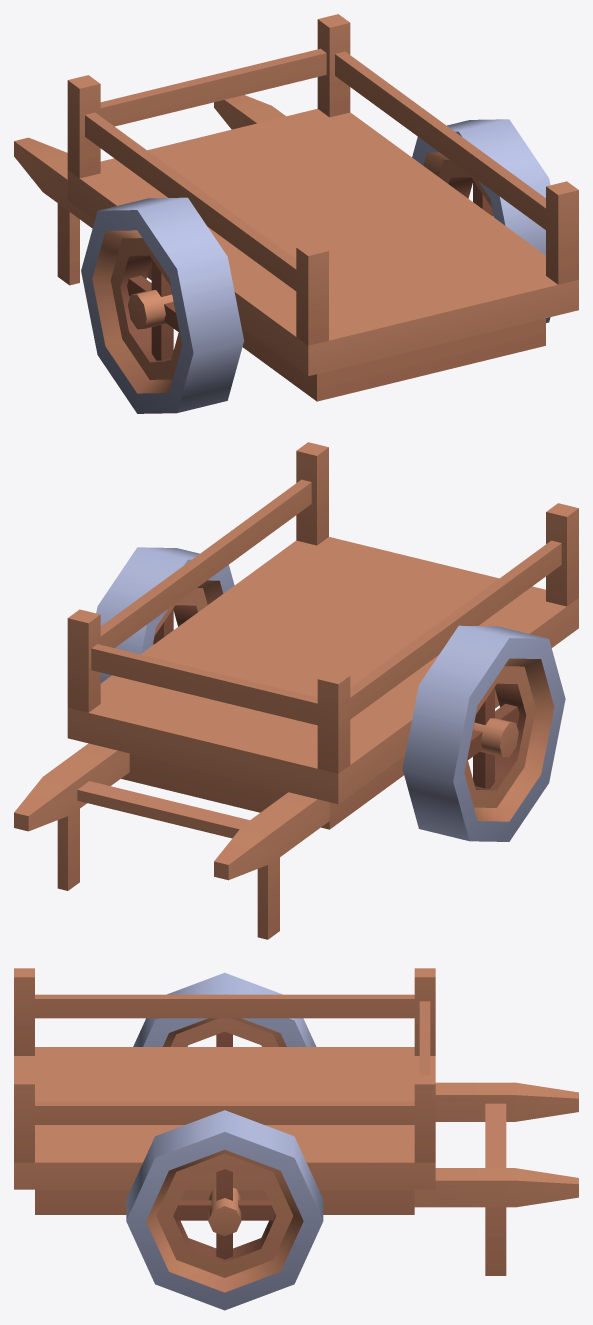
Rendered from cart_a.glb.
3 renders of one model, top to bottom at view 1: azimuth 30°, elevation 25°; view 2: azimuth 150°, elevation 25°; view 3: azimuth 270°, elevation 25°, orthographic. The views are drawn at different scales.
Parts seen in each view (by area): view 1: cart; view 2: cart; view 3: cart.
Boxes of the visible parts, box(x1,y1,x2,y2) form: cart: box(14, 14, 578, 413); cart: box(14, 442, 578, 939); cart: box(14, 968, 578, 1310).
Bounding box in the file's own units: 0.8931 × 0.5354 × 1.34.
Materials: 1 (1 with a texture image).
